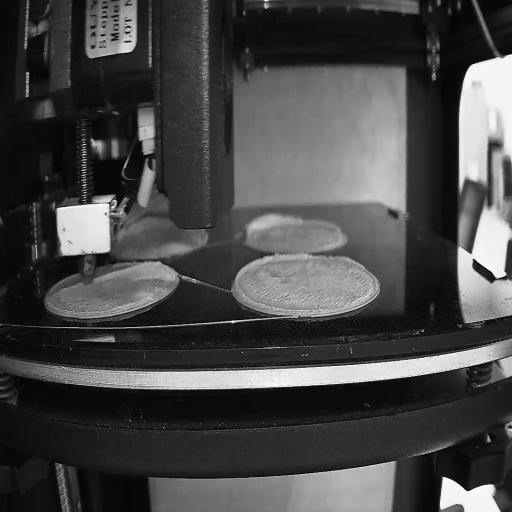over_extrusion: (234, 250, 310, 315), (240, 210, 301, 240), (92, 258, 156, 284), (309, 214, 341, 234), (329, 255, 364, 272), (57, 279, 82, 294)
